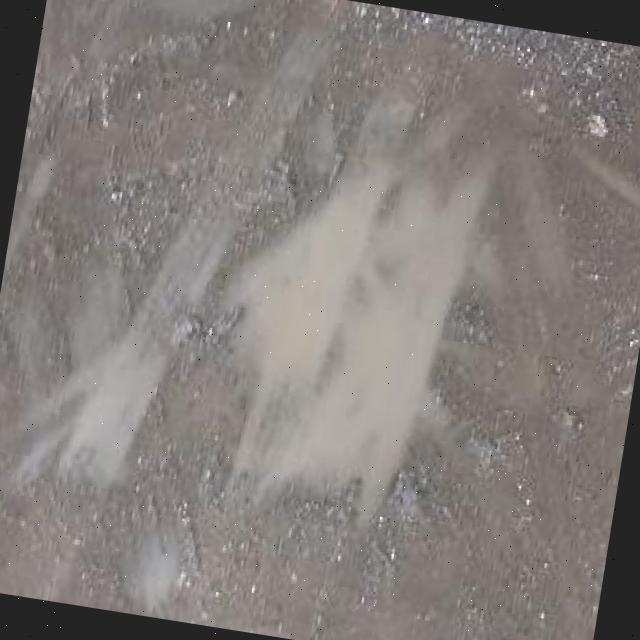stagnation: (219, 89, 488, 534)
